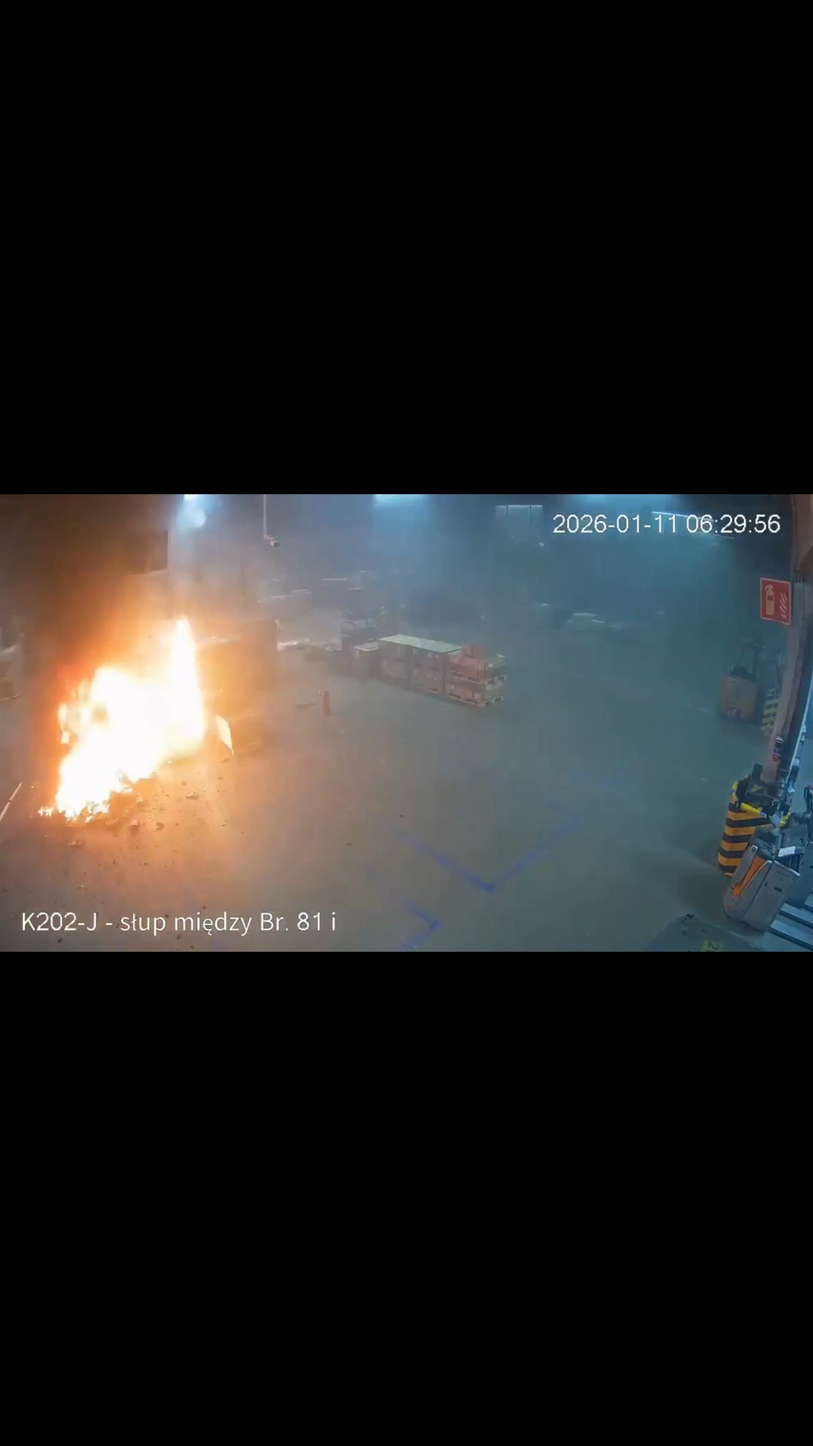fire: (40, 611, 235, 824)
smoke: (2, 496, 284, 676)
